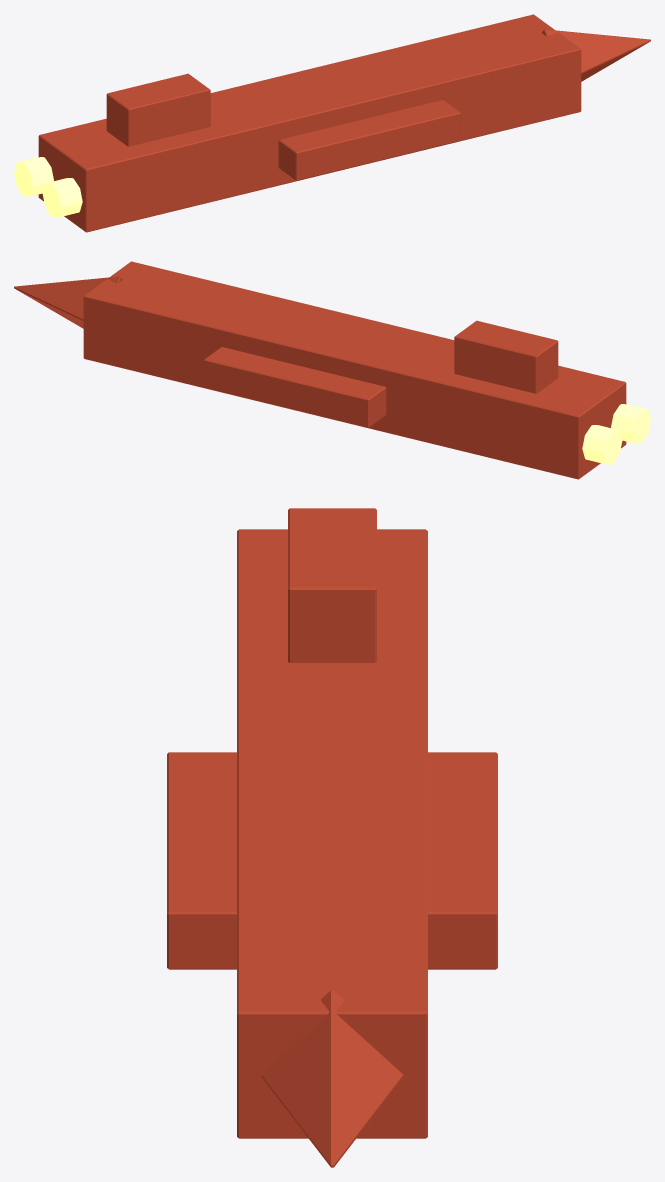
File: SM_TitheCruiser.fbx
The picture shows the model from 3 angles, top to bottom: view 1: azimuth 30°, elevation 25°; view 2: azimuth 150°, elevation 25°; view 3: azimuth 270°, elevation 25°; orthographic projection. The views are drawn at different scales.
Parts seen in each view (by area): view 1: SM_TitheCruiser; view 2: SM_TitheCruiser; view 3: SM_TitheCruiser.
Part boxes in pixels (box(x1,y1,x2,y2)): SM_TitheCruiser: box(14, 14, 650, 232); SM_TitheCruiser: box(14, 261, 650, 479); SM_TitheCruiser: box(167, 508, 497, 1167).
Bounding box in the file's own units: 445 × 73.38 × 104.
